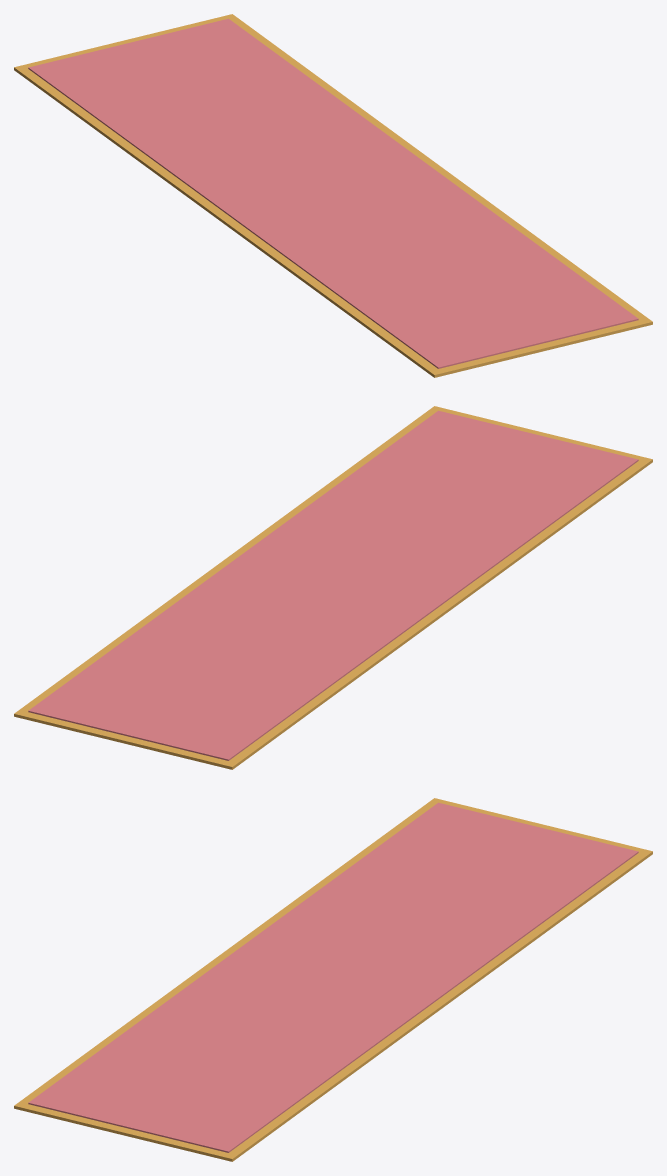
Rendered from prop-hall-carpet.glb.
The picture shows the model from 3 angles, top to bottom: view 1: azimuth 30°, elevation 25°; view 2: azimuth 150°, elevation 25°; view 3: azimuth 330°, elevation 25°; orthographic projection.
Parts seen in each view (by area): view 1: carpet; view 2: carpet; view 3: carpet.
Boxes of the visible parts, x1=… form: carpet: x1=14, y1=14, x2=652, y2=377; carpet: x1=14, y1=406, x2=652, y2=769; carpet: x1=14, y1=798, x2=652, y2=1161.
Bounding box in the file's own units: 2.4 × 0.045 × 8.
